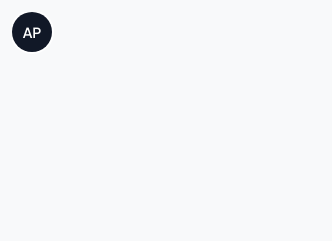
Scenario: ProfileMenu › solo muestra el encabezado y "Cerrar sesión"
Click the button with aria-label "Abrir menú de perfil" at (32, 32), box [12,12,52,52]
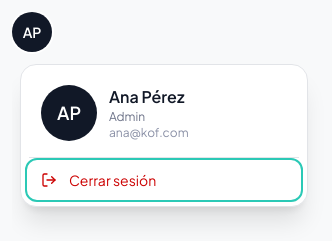
expect the text "Ana Pérez" is shown: met, box [109,85,189,109]
expect the text "ana@kof.com" is shown: met, box [109,125,189,141]
expect the menu item "Cerrar sesión" is shown: met, box [29,162,299,198]
